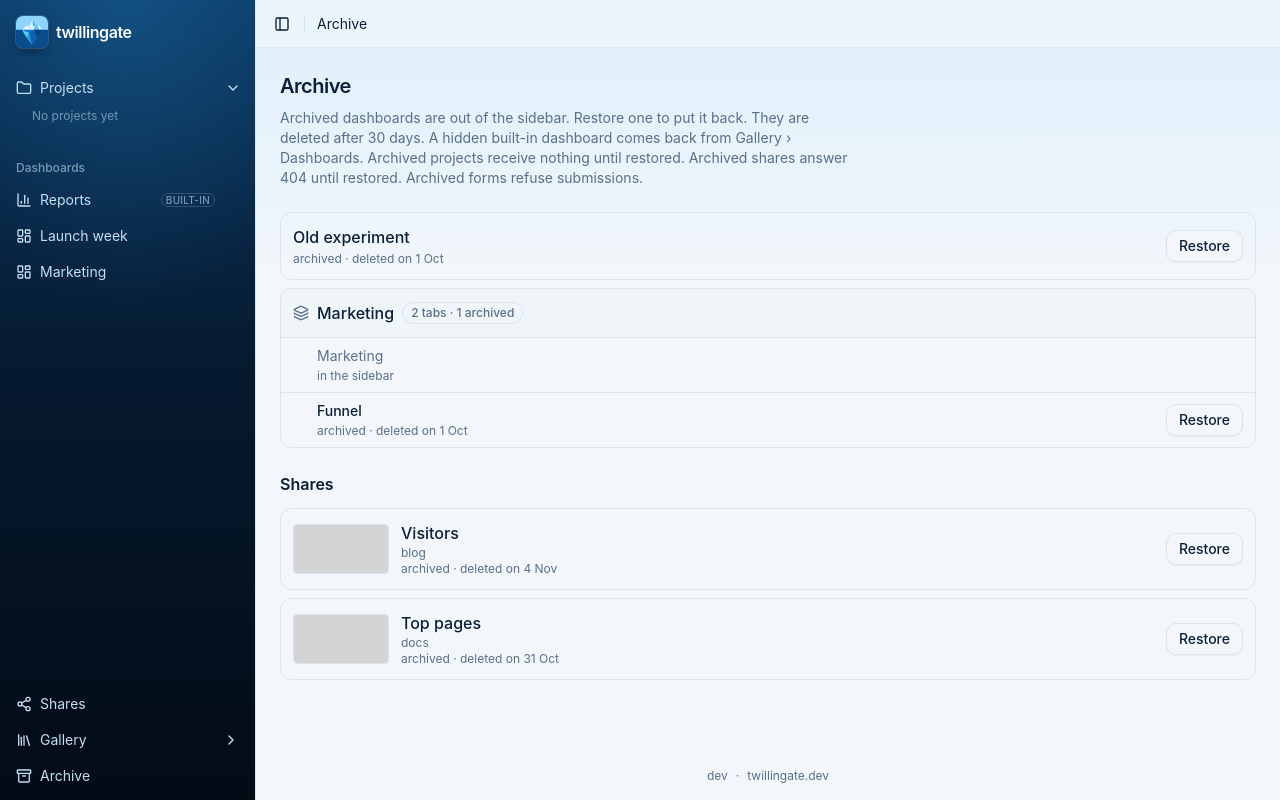
Archive, shares › names the share in the dialog, and keeps its title while the dialog closes
This screenshot has width=1280, height=800.
What coordinates should you click on to do the following:
click the button "Restore" in the row of "Visitors"
I would click on:
 (1204, 549)
Its box is [1166,533,1243,565].
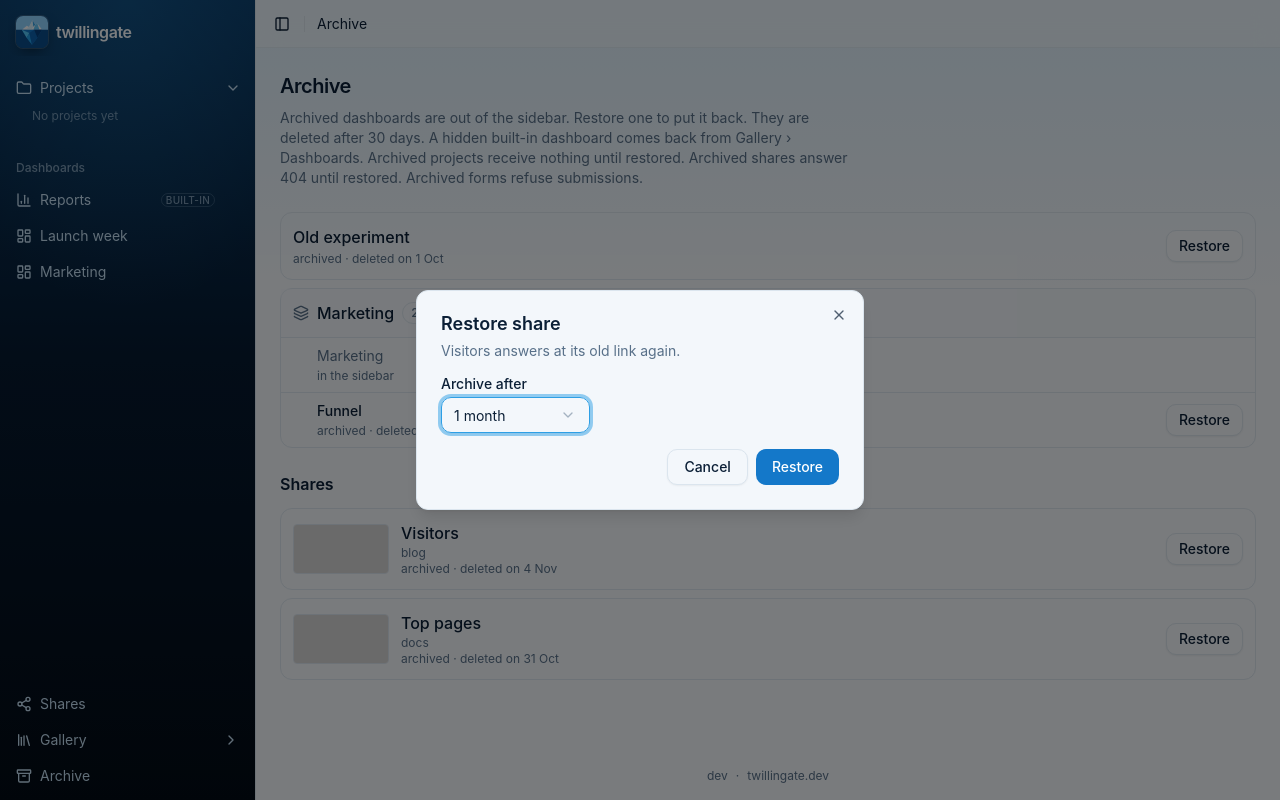
Result: the text "Visitors answers at its old link again." is shown at [441,342,680,359]
